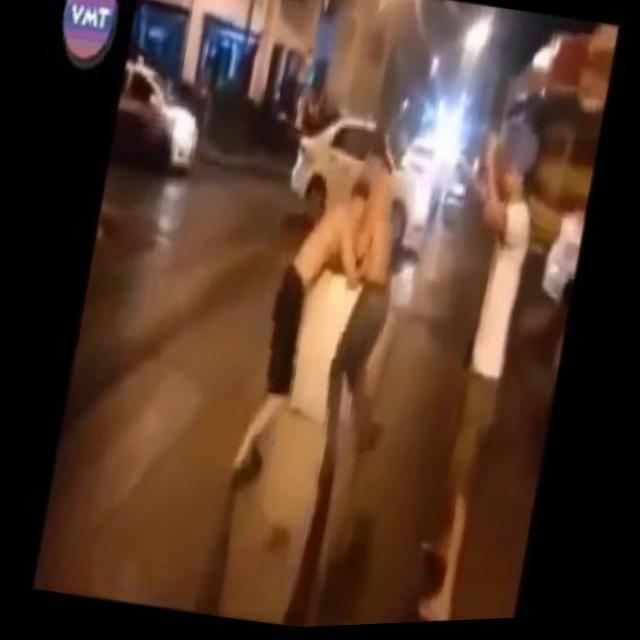fight: (234, 110, 432, 502)
